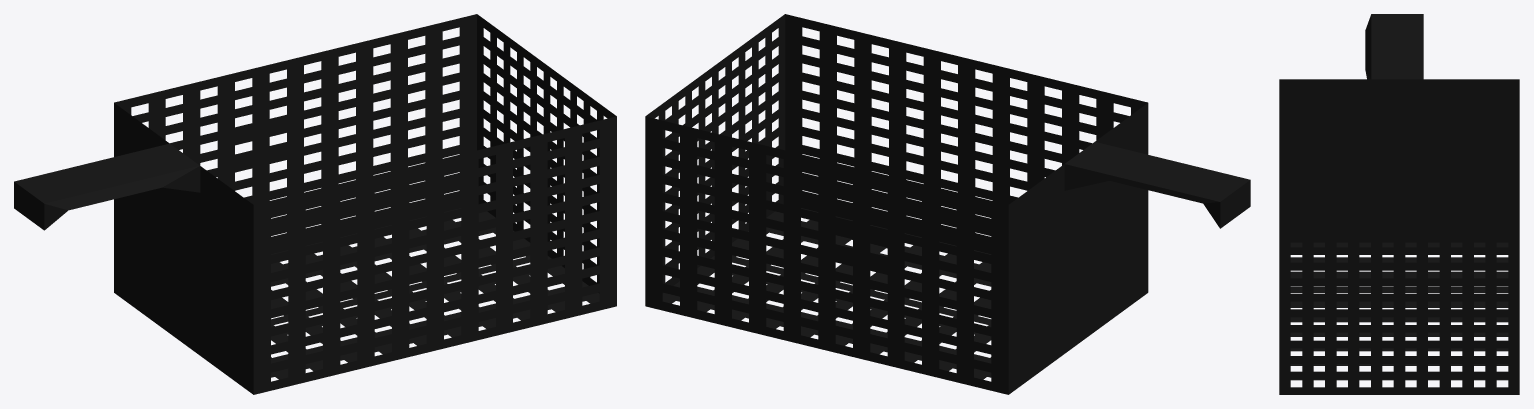
Rendered from mesa_centro_freidora1.obj.
The picture shows the model from 3 angles, left to right: view 1: azimuth 30°, elevation 25°; view 2: azimuth 150°, elevation 25°; view 3: azimuth 270°, elevation 25°; orthographic projection. The views are drawn at different scales.
Visible parts, largest first — view 1: Cubo.029_Cubo.030; view 2: Cubo.029_Cubo.030; view 3: Cubo.029_Cubo.030.
Boxes of the visible parts, bbox=[...] form: Cubo.029_Cubo.030: bbox=[14, 14, 616, 394]; Cubo.029_Cubo.030: bbox=[645, 14, 1250, 394]; Cubo.029_Cubo.030: bbox=[1279, 14, 1519, 394].
Size of the model in its own units: 0.8573 by 0.3 by 0.4.
